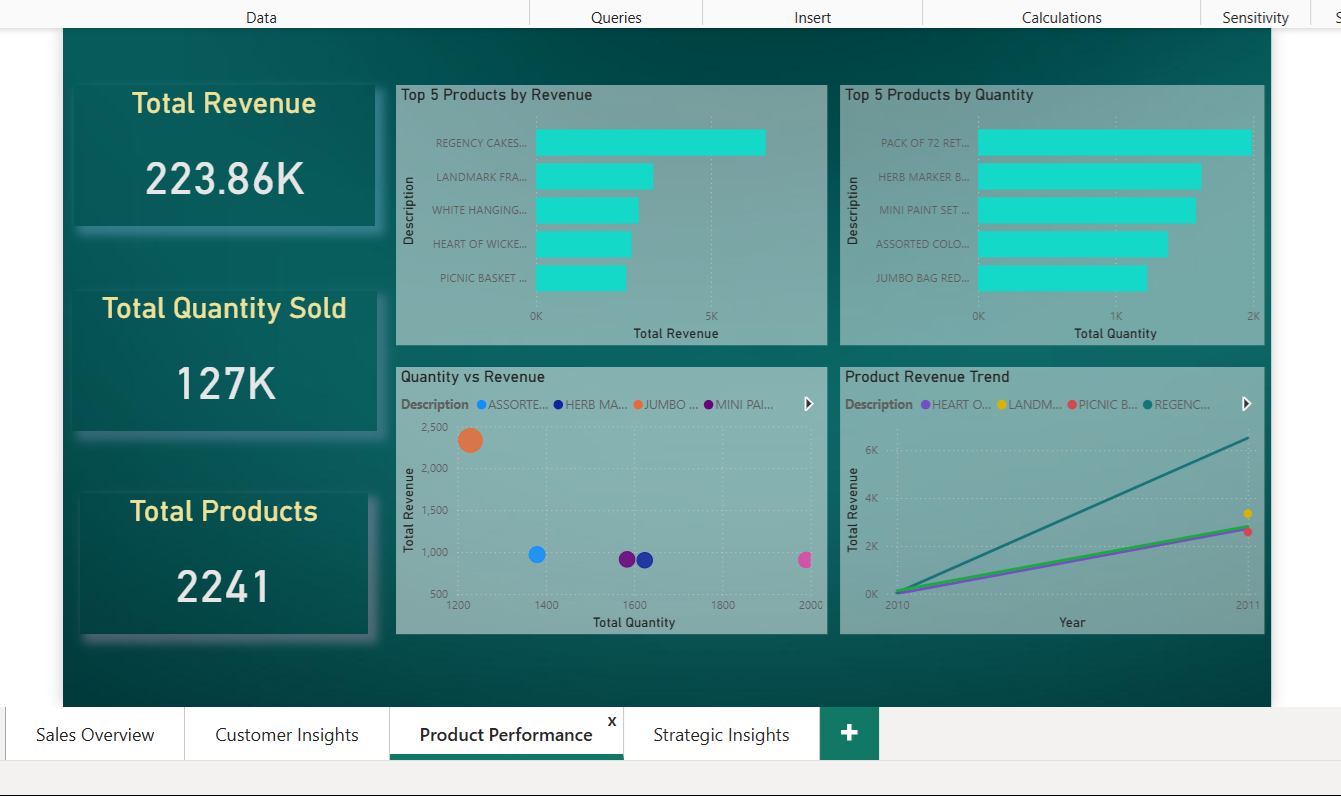

The dashboard page shown, as its layout file describes it:
{"tool":"powerbi","page":{"name":"Product Performance","canvas":[1280,720],"ordinal":2},"visuals":[{"type":"card","title":"Total Revenue","fields":{"Values":["transformed_online_retail.Total Revenue"]},"box":[11.3,60.5,319.4,149.3],"z":0},{"type":"card","title":"Total Quantity Sold","fields":{"Values":["transformed_online_retail.Total Quantity"]},"box":[9.4,277.8,323.2,149.3],"z":1000},{"type":"card","title":"Total Products","fields":{"Values":["customers_new.Total Products"]},"box":[17,493.2,306.1,149.3],"z":2000},{"type":"clusteredBarChart","title":"Top 5 Products by Revenue","fields":{"Category":["products_new.Description"],"Y":["transformed_online_retail.Total Revenue"]},"box":[353.4,60.5,457.3,275.9],"z":3000},{"type":"clusteredBarChart","title":"Top 5 Products by Quantity","fields":{"Category":["products_new.Description"],"Y":["transformed_online_retail.Total Quantity"]},"box":[823.9,60.5,449.8,275.9],"z":4000},{"type":"scatterChart","title":"Quantity vs Revenue","fields":{"X":["transformed_online_retail.Total Quantity"],"Y":["transformed_online_retail.Total Revenue"],"Series":["products_new.Description"],"Size":["transformed_online_retail.Total Revenue"]},"box":[353.4,359.1,457.3,283.5],"z":5000},{"type":"lineChart","title":"Product Revenue Trend","fields":{"Category":["transformed_online_retail.OrderDate.Variation.Date Hierarchy.Year","transformed_online_retail.OrderDate.Variation.Date Hierarchy.Quarter","transformed_online_retail.OrderDate.Variation.Date Hierarchy.Month","transformed_online_retail.OrderDate.Variation.Date Hierarchy.Day"],"Y":["transformed_online_retail.Total Revenue"],"Series":["products_new.Description"]},"box":[824,359,450,283],"z":6000}]}

Visuals, with their boxes on the page's 1280x720 design canvas (x1, y1, x2, y2). These are canvas units, not pixel positions in the 1341x796 screenshot, which may show the page scaled, cropped or inside an application window:
"Total Revenue" card: pyautogui.locateOnScreen(11, 60, 331, 210)
"Total Quantity Sold" card: pyautogui.locateOnScreen(9, 278, 333, 427)
"Total Products" card: pyautogui.locateOnScreen(17, 493, 323, 642)
"Top 5 Products by Revenue" clusteredBarChart: pyautogui.locateOnScreen(353, 60, 811, 336)
"Top 5 Products by Quantity" clusteredBarChart: pyautogui.locateOnScreen(824, 60, 1274, 336)
"Quantity vs Revenue" scatterChart: pyautogui.locateOnScreen(353, 359, 811, 643)
"Product Revenue Trend" lineChart: pyautogui.locateOnScreen(824, 359, 1274, 642)
